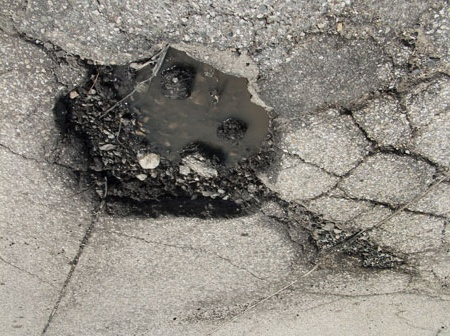pothole: (50, 46, 265, 231), (282, 211, 391, 275)
